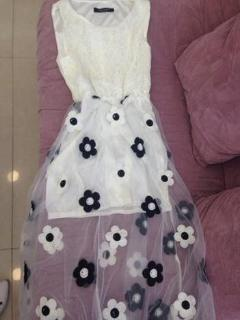vest: (20, 0, 215, 319)
